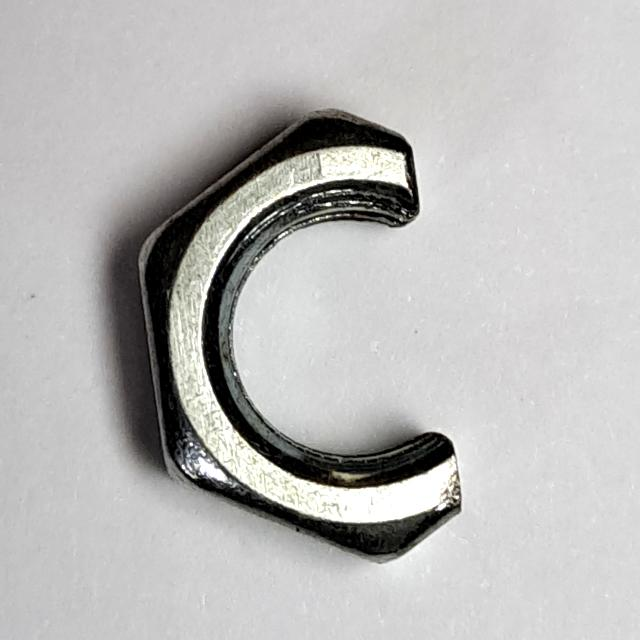Fracture: (126, 89, 494, 584)
